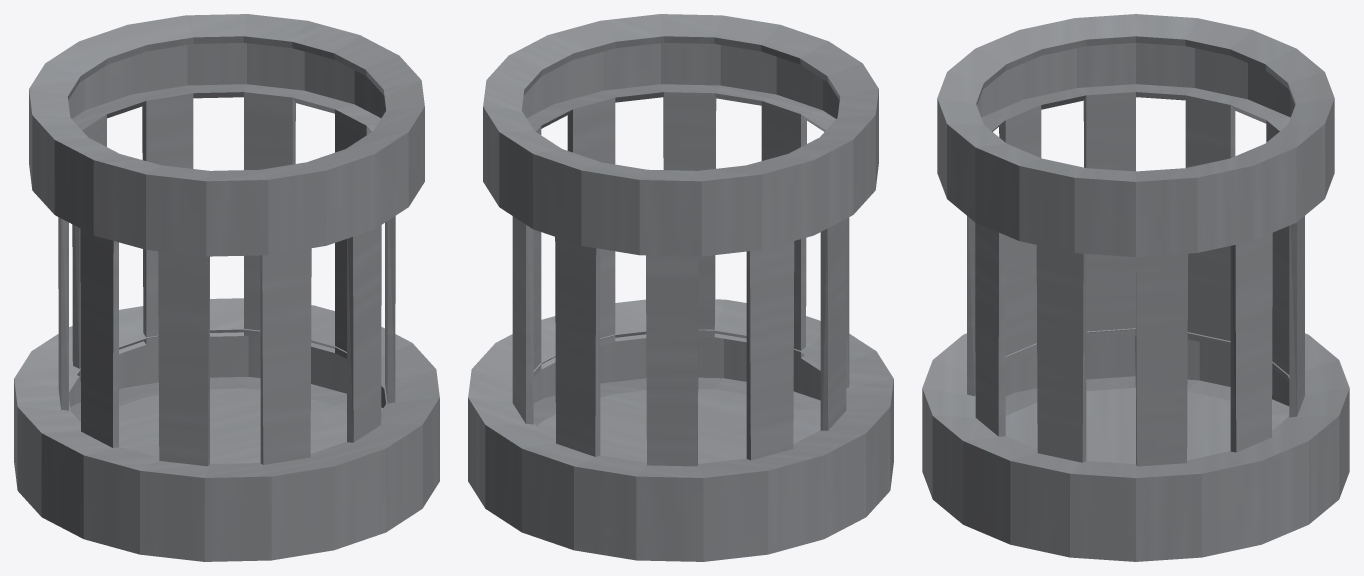
The model's file is PencilHolder.fbx.
3 views of the same model, side by side, from view 1: azimuth 30°, elevation 25°; view 2: azimuth 150°, elevation 25°; view 3: azimuth 270°, elevation 25° (orthographic).
Parts seen in each view (by area): view 1: pencilholder; view 2: pencilholder; view 3: pencilholder.
Boxes of the visible parts, <box> form: pencilholder: <box>14,14,439,561</box>; pencilholder: <box>468,14,893,561</box>; pencilholder: <box>922,14,1349,561</box>.
Size of the model in its own units: 14.42 by 13.93 by 14.43.
